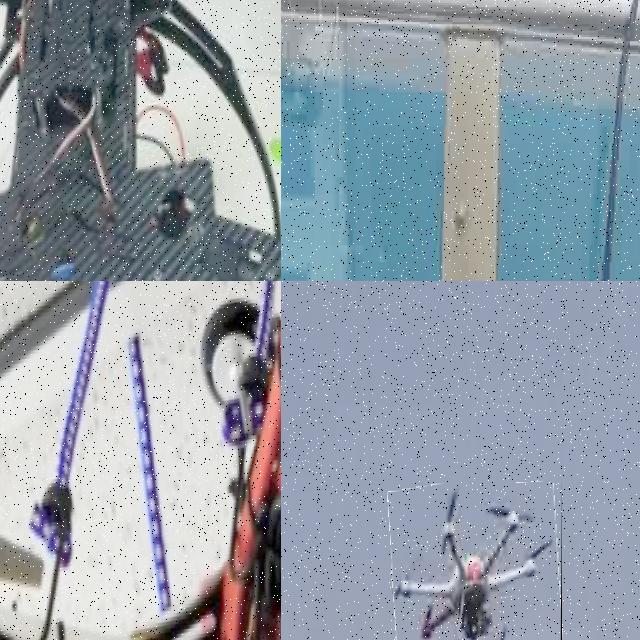drone: (0, 281, 281, 640), (0, 0, 281, 281), (391, 483, 562, 640)
